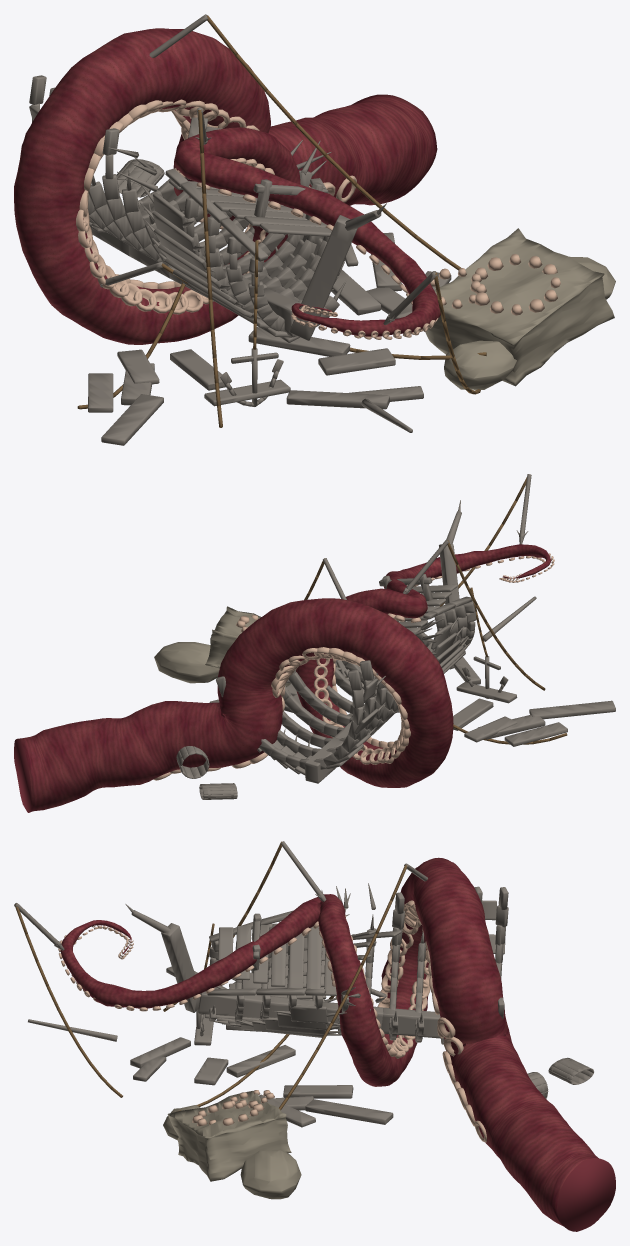
Rendered from kraken_wreck.glb.
3 views of the same model, one above another, from view 1: azimuth 30°, elevation 25°; view 2: azimuth 150°, elevation 25°; view 3: azimuth 270°, elevation 25° (orthographic). The views are drawn at different scales.
Visible parts, largest first — view 1: kraken_wreck; view 2: kraken_wreck; view 3: kraken_wreck.
Boxes of the visible parts, box(x1,y1,x2,y2) form: kraken_wreck: box(14, 14, 615, 445); kraken_wreck: box(14, 474, 615, 812); kraken_wreck: box(14, 841, 615, 1231).
Bounding box in the file's own units: 21.83 × 11.95 × 25.56.
Materials: 5 (5 with a texture image).
